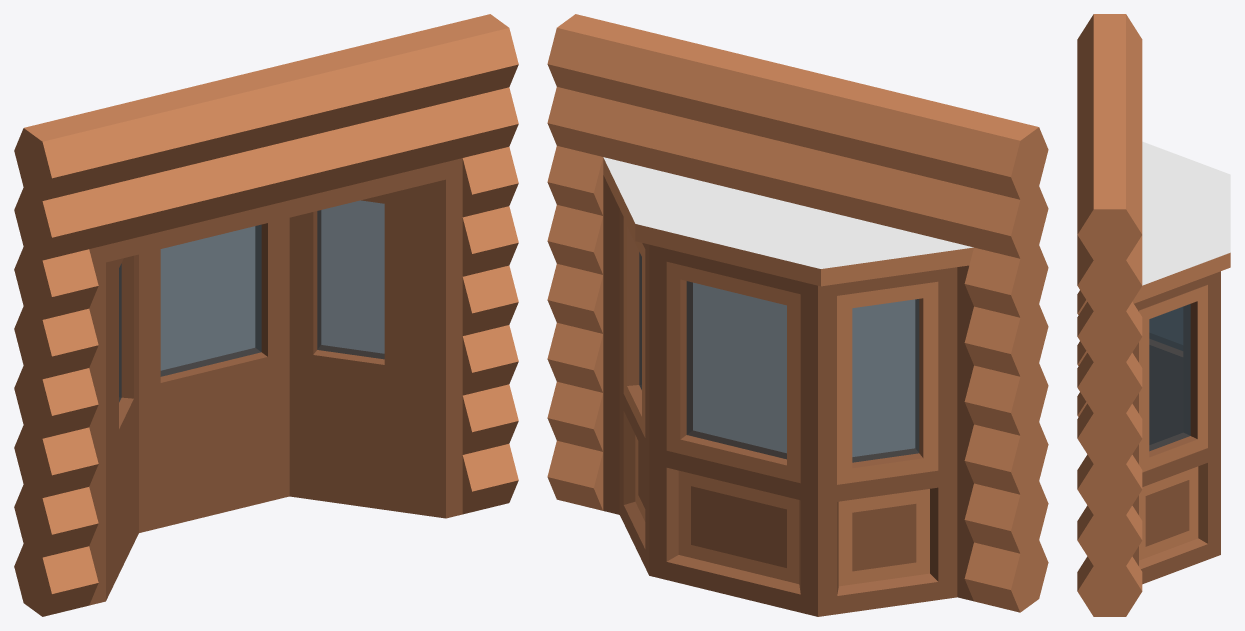
Rendered from cabinWindowLarge.fbx.
3 renders of one model, left to right at view 1: azimuth 30°, elevation 25°; view 2: azimuth 150°, elevation 25°; view 3: azimuth 270°, elevation 25°, orthographic. The views are drawn at different scales.
Visible parts, largest first — view 1: frame, cabinWindowLarge; view 2: frame, cabinWindowLarge; view 3: cabinWindowLarge, frame.
Part boxes in pixels (x1,y1,x2,y2): frame: [89, 158, 462, 605]; cabinWindowLarge: [14, 14, 518, 616]; frame: [603, 157, 973, 616]; cabinWindowLarge: [547, 14, 1048, 612]; cabinWindowLarge: [1077, 14, 1142, 616]; frame: [1132, 141, 1230, 584].
Bounding box in the file's own units: 10 × 9.73 × 3.31.
